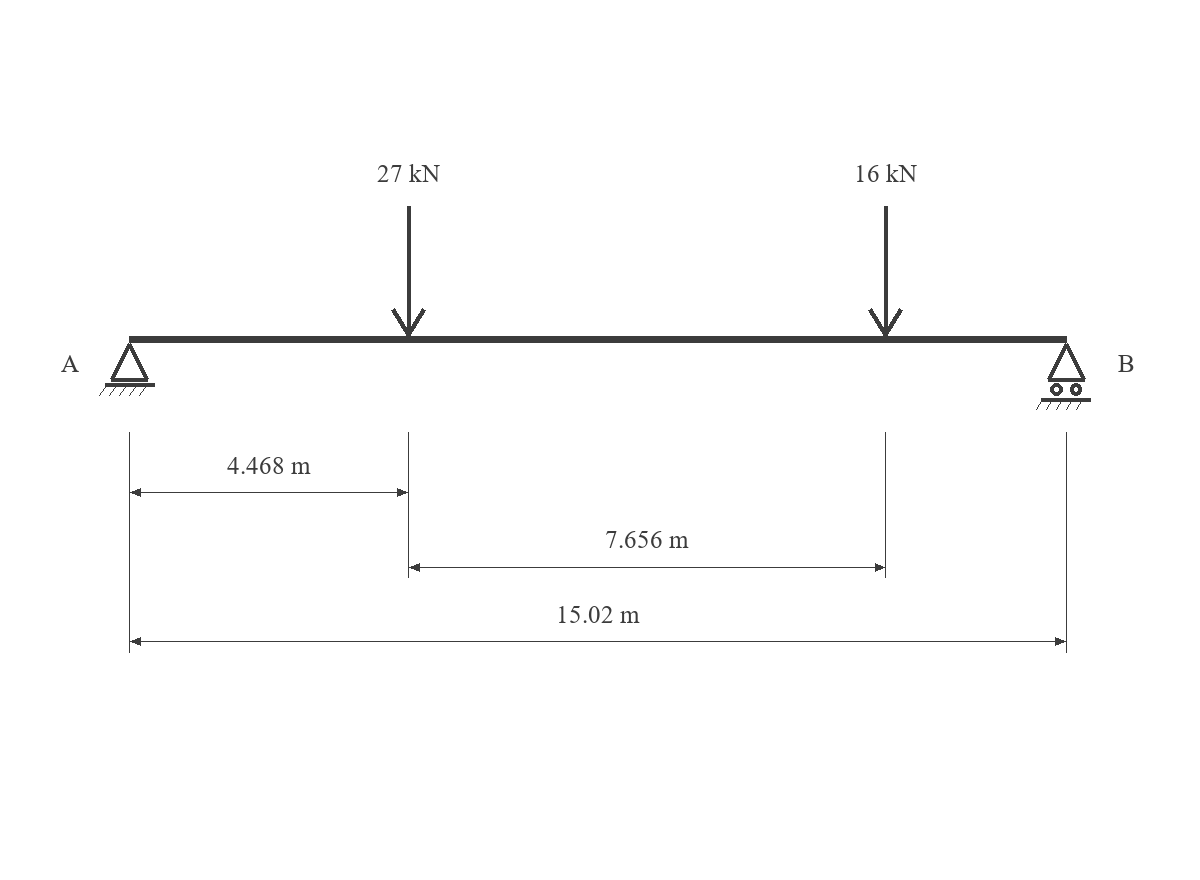pin_support: (99, 343, 155, 396)
point_load: (391, 206, 426, 337), (868, 206, 903, 337)
roller_support: (1036, 343, 1091, 410)
